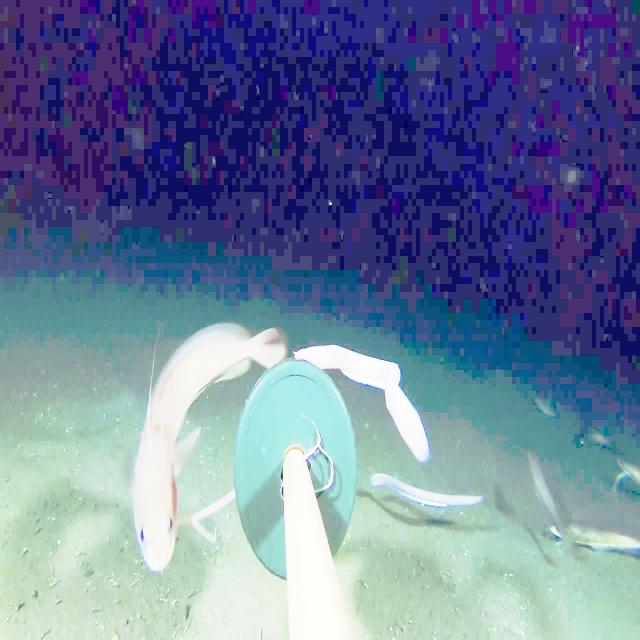eel: (291, 326, 441, 465), (366, 461, 489, 517)
fish: (114, 292, 296, 585), (552, 512, 640, 567), (607, 457, 640, 499), (582, 420, 620, 454), (528, 389, 564, 424)
pole: (234, 363, 360, 639)
